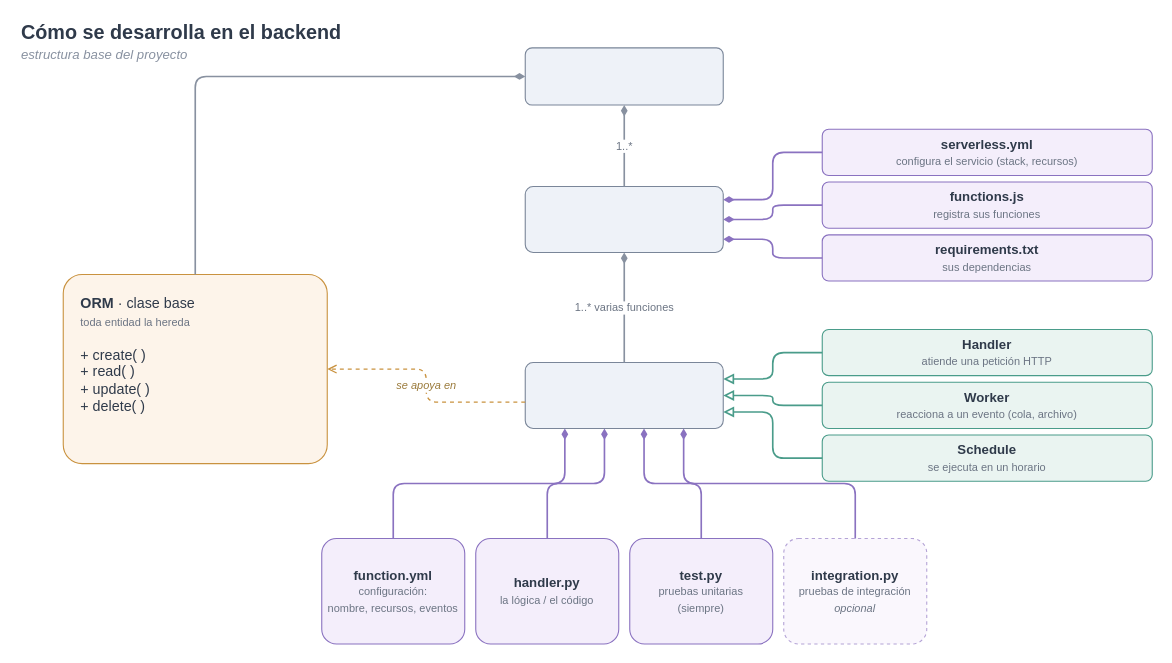
This 1172x663 diagram has some shape labels left out. Here are the shapes that lost their labels. From the top down, the centre of each, then its label:
the point at 623,76: Backend la aplicación
the point at 623,218: «abstract» Service un dominio del negocio
the point at 623,394: «abstract» Function se despliega y ejecuta
